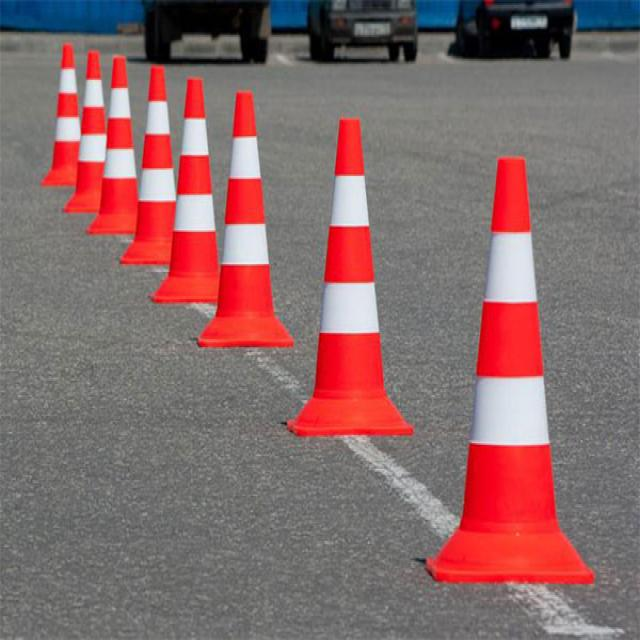Traffic Cone: (408, 118, 609, 620), (282, 101, 421, 466), (192, 75, 302, 368), (157, 70, 225, 310)
